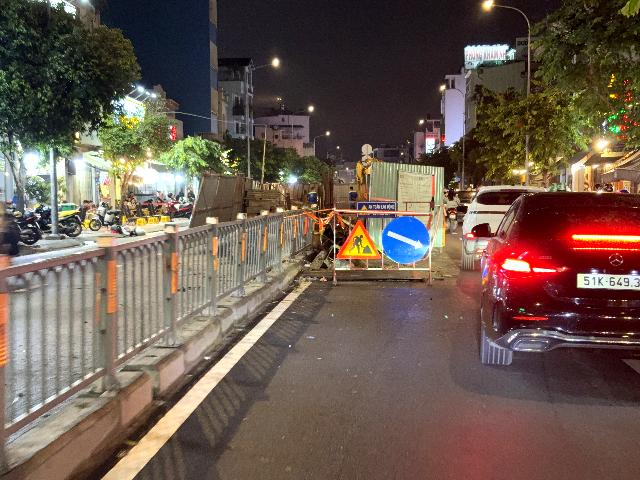cong-truong-dang-thi-cong: (337, 221, 381, 258)
huong-phai-di-vong-chuong-ngai-vat: (382, 217, 430, 265)
